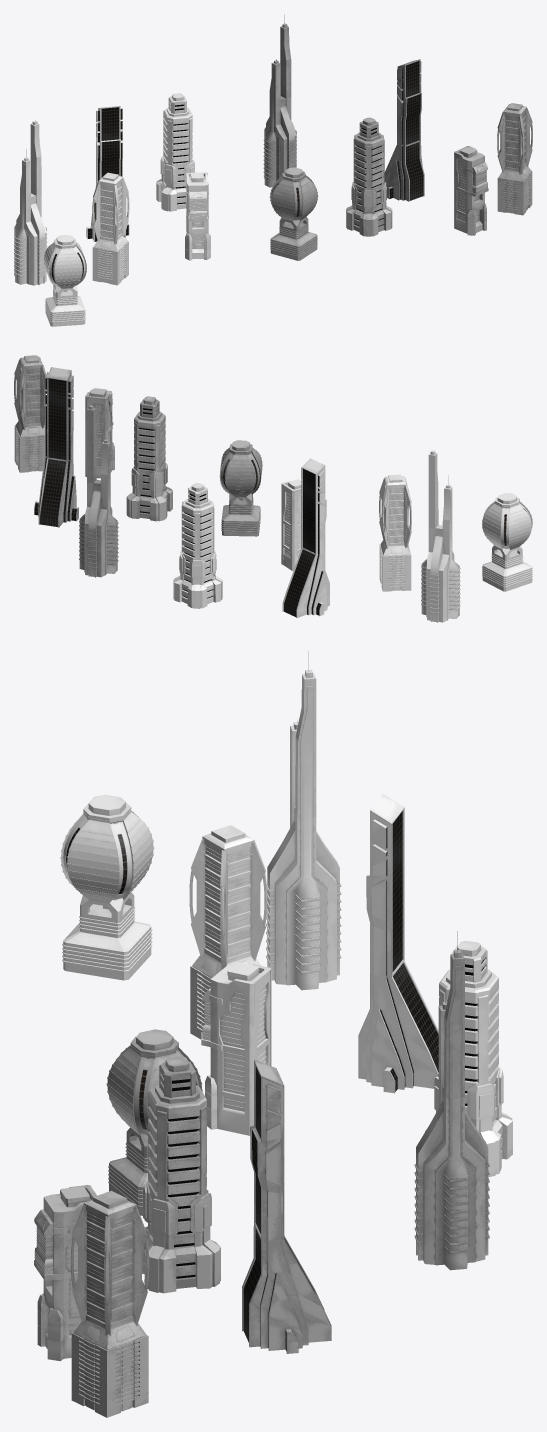
The model's file is scifi-buildings.glb.
3 renders of one model, top to bottom at view 1: azimuth 30°, elevation 25°; view 2: azimuth 150°, elevation 25°; view 3: azimuth 270°, elevation 25°, orthographic. The views are drawn at different scales.
Parts seen in each view (by area): view 1: Building6_T_B6windows_0, Building2b_T_B2base_gray_0, Building3_T_B3base_white_0, Building4_T_B4base_white_0, Building4b_T_B4base_gray_0, Building3b_T_B3base_gray_0, Building1b_T_B1base_gray_0, Building2_T_B2base_white_0, Building1_T_B1base_white_0, Building5b_T_B5base_gray_0, Building6b_T_B6base_gray_0, Building5_T_B5base_white_0 (+2 smaller); view 2: Building6_T_B6windows_0, Building3_T_B3base_white_0, Building2_T_B2base_white_0, Building3b_T_B3base_gray_0, Building2b_T_B2base_gray_0, Building1_T_B1base_white_0, Building4_T_B4base_white_0, Building4b_T_B4base_gray_0, Building1b_T_B1base_gray_0, Building6_T_B6base_white_0, Building6b_T_B6base_gray_0, Building5_T_B5base_white_0 (+2 smaller); view 3: Building4b_T_B4base_gray_0, Building3b_T_B3base_gray_0, Building3_T_B3base_white_0, Building2b_T_B2base_gray_0, Building1_T_B1base_white_0, Building6b_T_B6base_gray_0, Building6_T_B6base_white_0, Building4_T_B4base_white_0, Building5_T_B5base_white_0, Building2_T_B2base_white_0, Building1b_T_B1base_gray_0, Building5b_T_B5base_gray_0 (+2 smaller).
Part boxes in pixels (left/top/right/bottom): Building6_T_B6windows_0: left=88, top=61, right=423, bottom=241; Building2b_T_B2base_gray_0: left=346, top=117, right=392, bottom=236; Building3_T_B3base_white_0: left=14, top=120, right=47, bottom=285; Building4_T_B4base_white_0: left=92, top=172, right=129, bottom=285; Building4b_T_B4base_gray_0: left=497, top=103, right=532, bottom=215; Building3b_T_B3base_gray_0: left=263, top=14, right=296, bottom=187; Building1b_T_B1base_gray_0: left=269, top=167, right=318, bottom=260; Building2_T_B2base_white_0: left=156, top=93, right=194, bottom=211; Building1_T_B1base_white_0: left=43, top=235, right=86, bottom=326; Building5b_T_B5base_gray_0: left=454, top=146, right=488, bottom=235; Building6b_T_B6base_gray_0: left=384, top=59, right=424, bottom=201; Building5_T_B5base_white_0: left=185, top=172, right=210, bottom=260; Building6_T_B6windows_0: left=35, top=378, right=322, bottom=616; Building3_T_B3base_white_0: left=421, top=450, right=460, bottom=622; Building2_T_B2base_white_0: left=173, top=483, right=222, bottom=608; Building3b_T_B3base_gray_0: left=79, top=395, right=118, bottom=577; Building2b_T_B2base_gray_0: left=126, top=396, right=172, bottom=521; Building1_T_B1base_white_0: left=482, top=493, right=532, bottom=591; Building4_T_B4base_white_0: left=379, top=474, right=411, bottom=591; Building4b_T_B4base_gray_0: left=14, top=355, right=46, bottom=472; Building1b_T_B1base_gray_0: left=219, top=440, right=262, bottom=536; Building6_T_B6base_white_0: left=282, top=458, right=329, bottom=617; Building6b_T_B6base_gray_0: left=34, top=367, right=78, bottom=527; Building5_T_B5base_white_0: left=281, top=479, right=301, bottom=570; Building4b_T_B4base_gray_0: left=70, top=1190, right=149, bottom=1417; Building3b_T_B3base_gray_0: left=414, top=931, right=489, bottom=1270; Building3_T_B3base_white_0: left=266, top=651, right=341, bottom=990; Building2b_T_B2base_gray_0: left=142, top=1056, right=220, bottom=1293; Building1_T_B1base_white_0: left=60, top=794, right=154, bottom=980; Building6b_T_B6base_gray_0: left=242, top=1059, right=331, bottom=1353; Building6_T_B6base_white_0: left=358, top=793, right=438, bottom=1093; Building4_T_B4base_white_0: left=189, top=825, right=267, bottom=1039; Building5_T_B5base_white_0: left=201, top=962, right=271, bottom=1135; Building2_T_B2base_white_0: left=425, top=941, right=512, bottom=1177; Building1b_T_B1base_gray_0: left=106, top=1029, right=202, bottom=1215; Building5b_T_B5base_gray_0: left=34, top=1185, right=96, bottom=1361.
Bounding box in the file's own units: 38.38 × 12.44 × 16.32.
14 materials, 13 textured.
